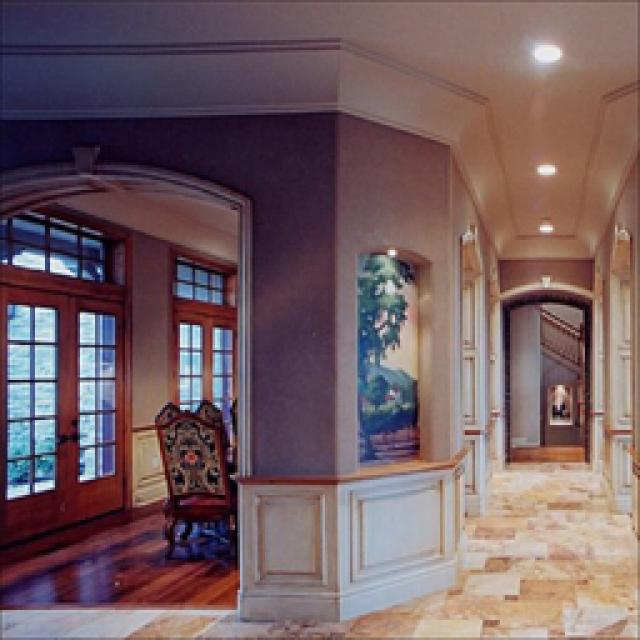Door: (0, 268, 130, 540)
